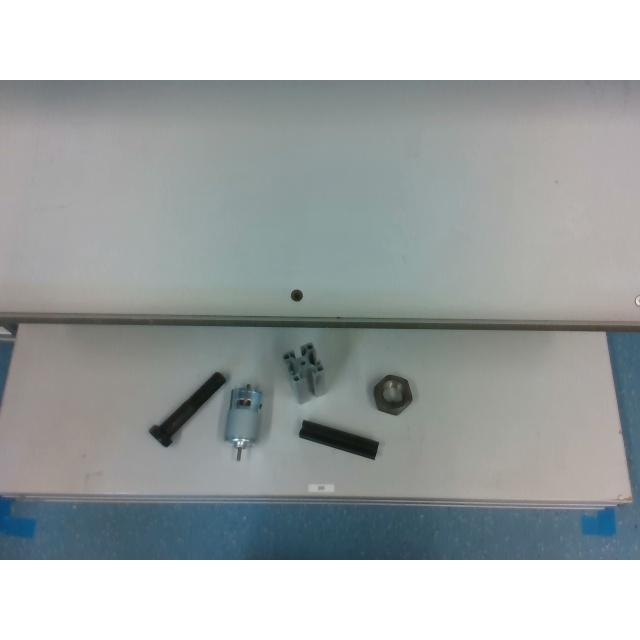F20_20_B: (298, 420, 378, 460)
M20_100: (150, 370, 227, 446)
M30: (374, 374, 412, 414)
Motor2: (225, 385, 262, 459)
S40_40_G: (283, 343, 325, 403)
